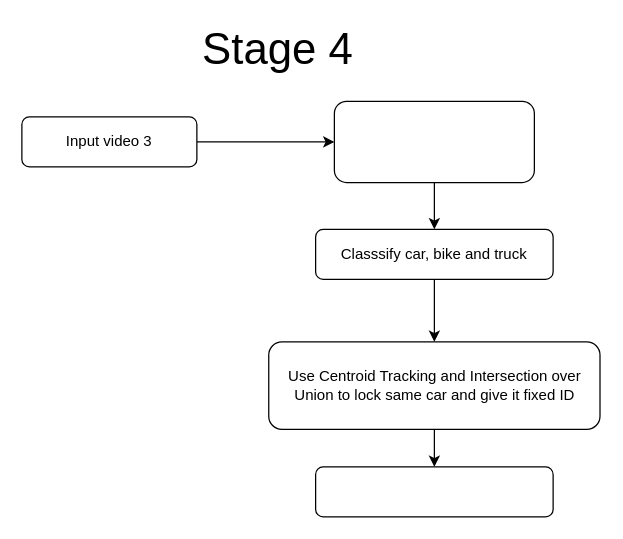
Some shapes in this 623 by 539 pixel diagram are drawn without their labels. Here are the shapes that lost their labels. From the top down, the centre of each, then its label:
At pixel 433 141: "U se YOLO model to detect object in the full screen".
At pixel 433 491: "Output a video with classified car type and fixed ID as video4".
